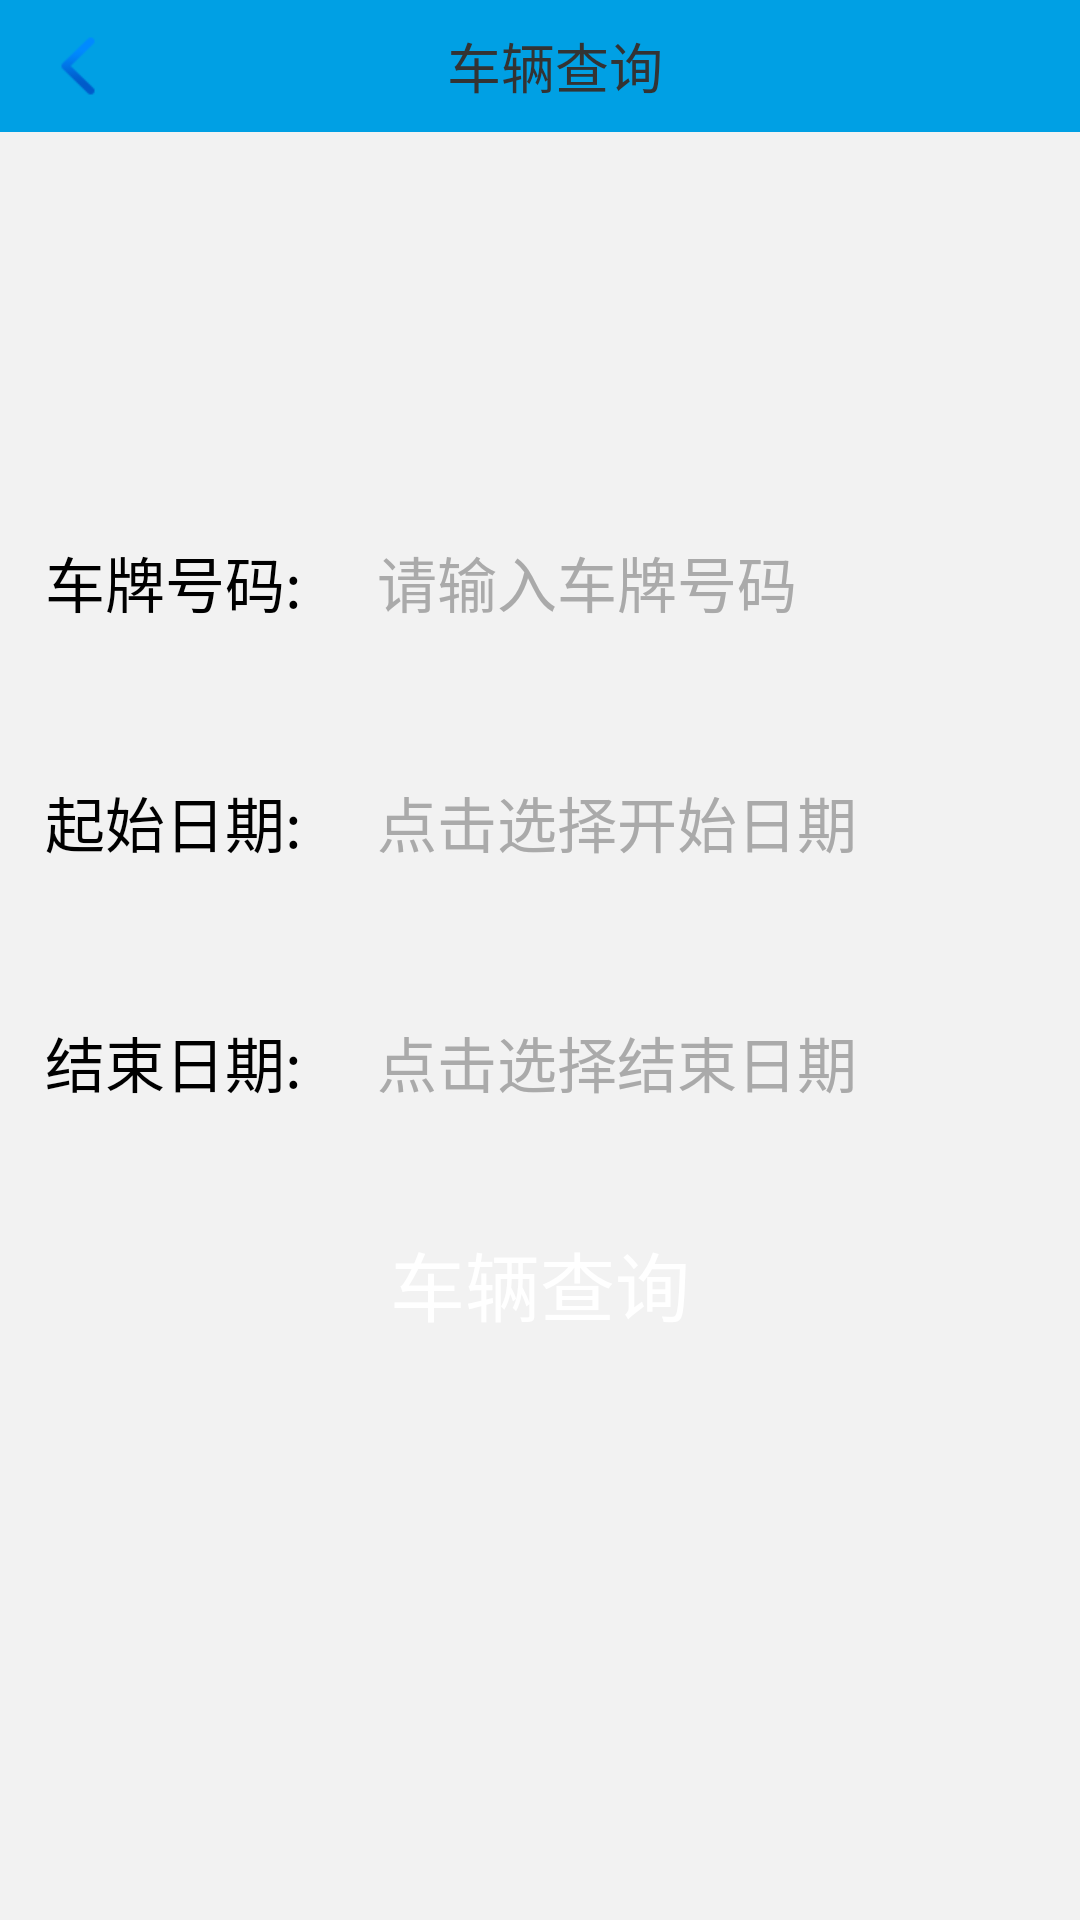

Where to tap for icons on this 1080 x 1920 app screen, as [x,y]:
back: [78,66]
